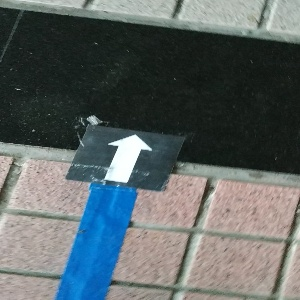straight: (67, 122, 185, 192)
